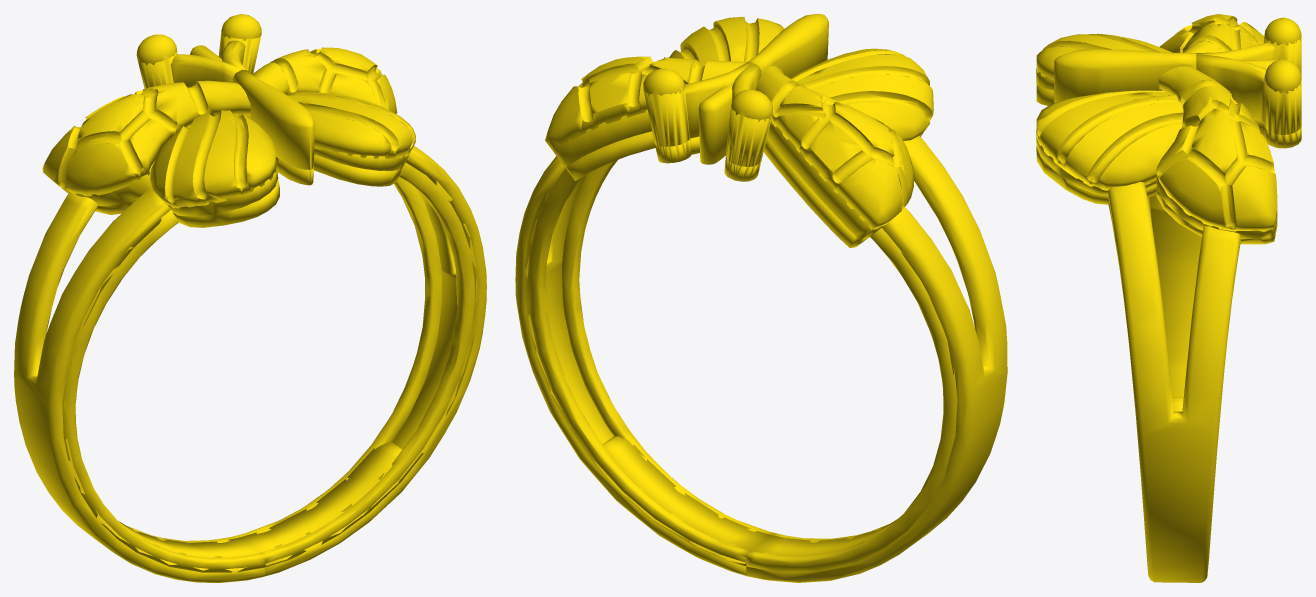
Rendered from GLR-D000705677_h.glb.
The picture shows the model from 3 angles, left to right: view 1: azimuth 30°, elevation 25°; view 2: azimuth 150°, elevation 25°; view 3: azimuth 270°, elevation 25°; orthographic projection. The views are drawn at different scales.
Visible parts, largest first — view 1: highPolyMesh; view 2: highPolyMesh; view 3: highPolyMesh.
Boxes of the visible parts, x1,y1,x2,y2 form: highPolyMesh: [14, 14, 486, 582]; highPolyMesh: [515, 14, 1007, 582]; highPolyMesh: [1036, 14, 1301, 582].
Size of the model in its own units: 0.0192 by 0.0211 by 0.00981.
